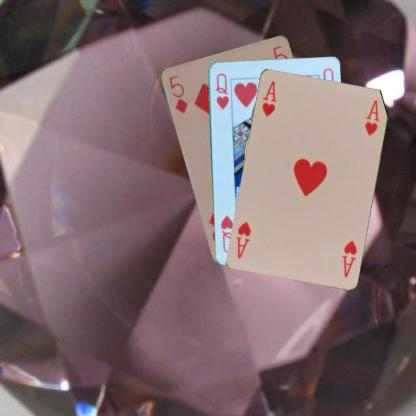5d: (166, 72, 189, 115)
Ah: (339, 238, 358, 278), (260, 78, 278, 118)
Qh: (213, 70, 230, 110)
